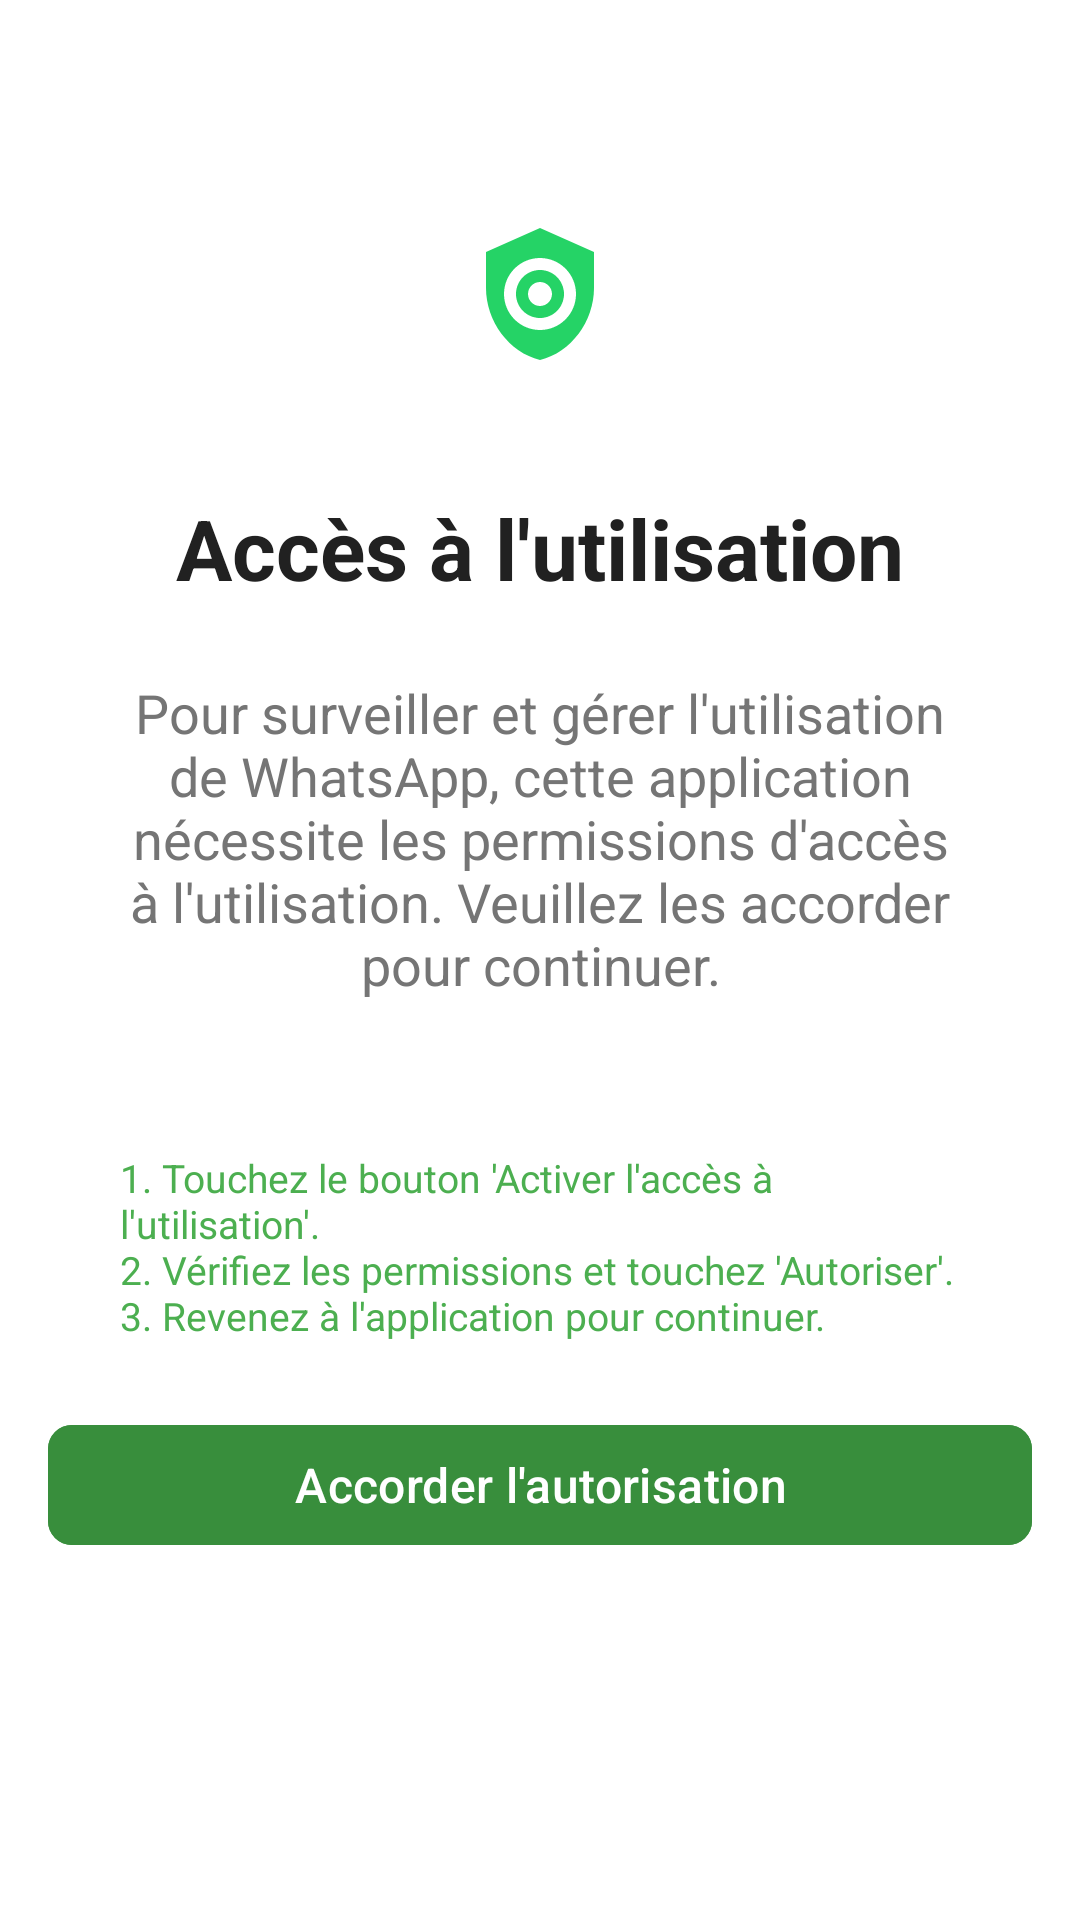

Icon bounding boxes for this 1080px×1920px phone screenshot, format (x1=x1, y1=y1, x2=x2, y2=y2):
icône de l'application: (x1=486, y1=228, x2=594, y2=360)
